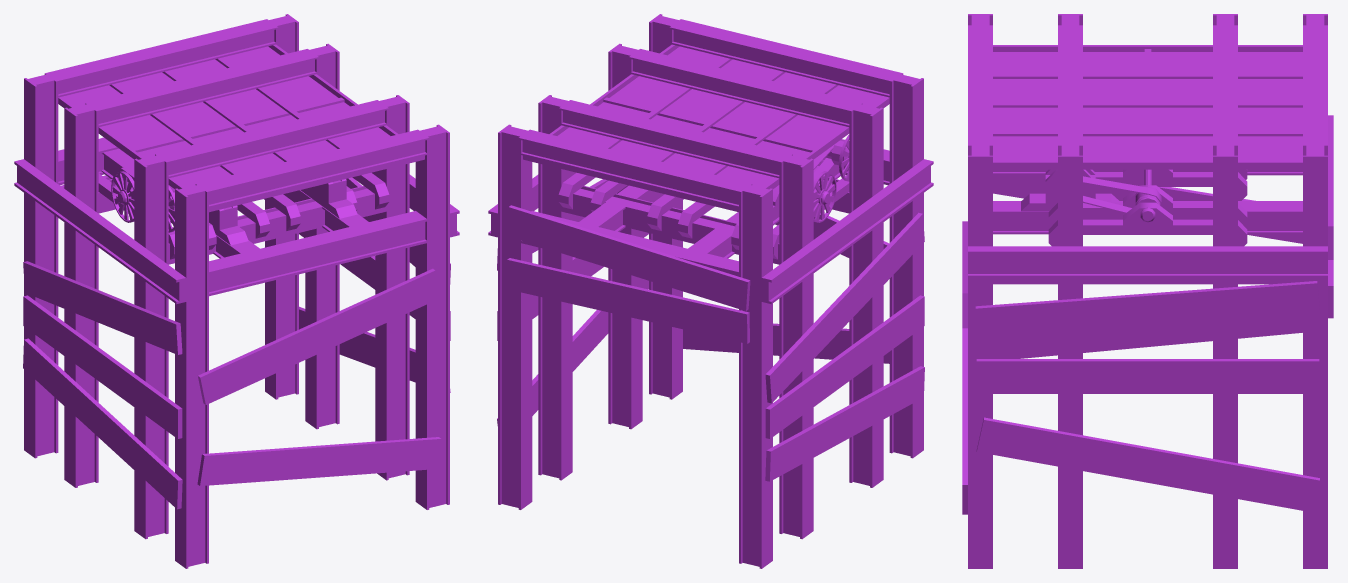
Rendered from Elevator_Top (1).fbx.
3 renders of one model, left to right at view 1: azimuth 30°, elevation 25°; view 2: azimuth 150°, elevation 25°; view 3: azimuth 270°, elevation 25°, orthographic. The views are drawn at different scales.
Visible parts, largest first — view 1: Elevator_Top; view 2: Elevator_Top; view 3: Elevator_Top.
Boxes of the visible parts, x1,y1,x2,y2 form: Elevator_Top: (14,14,459,568); Elevator_Top: (488,14,933,568); Elevator_Top: (962,14,1333,568).
Bounding box in the file's own units: 0.2811 × 0.3524 × 0.2875.
